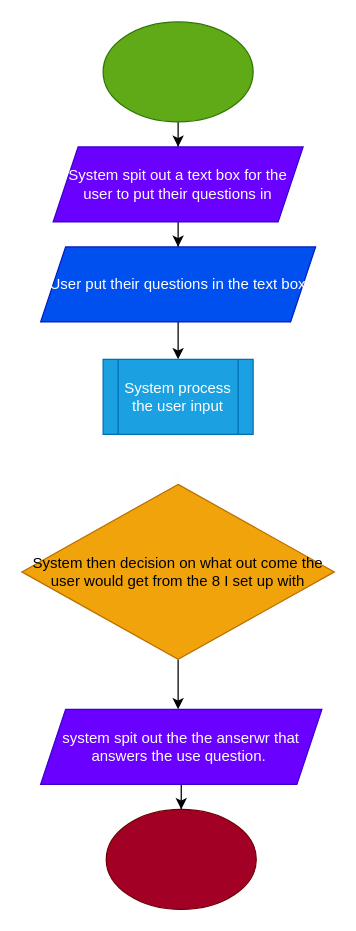
The diagram is 356 pixels wide and 931 high, and some of its shapes have lost their labels. The centre of each missing label's shape, as x and y in pixels:
End: the point at 180,858
Start: the point at 177,71
